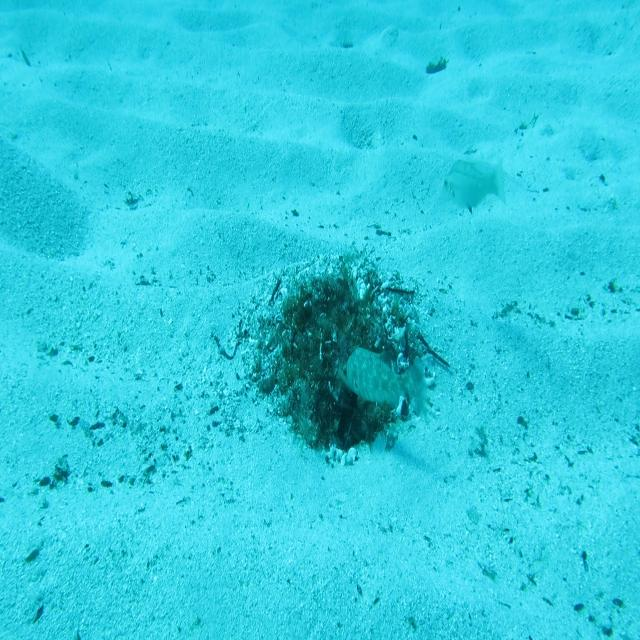AM: (338, 339, 429, 426)
core_nest: (312, 300, 358, 348)
nest: (227, 243, 445, 479)
vegetation: (424, 58, 448, 77)
